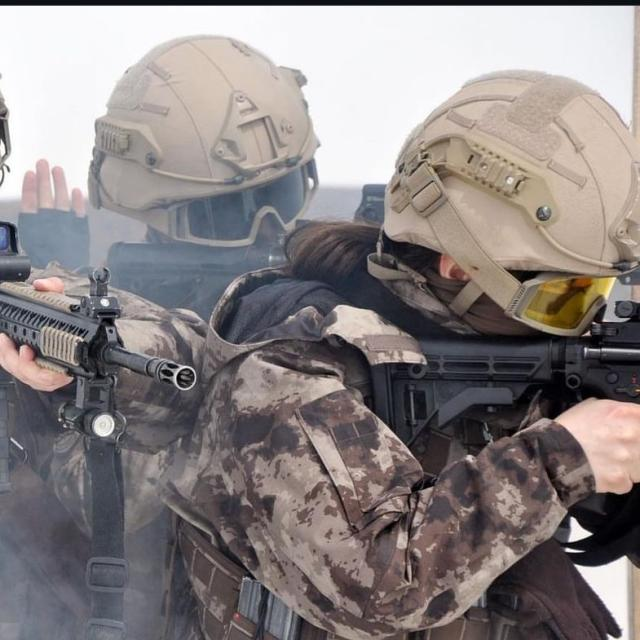poh_personel: (185, 63, 640, 640)
